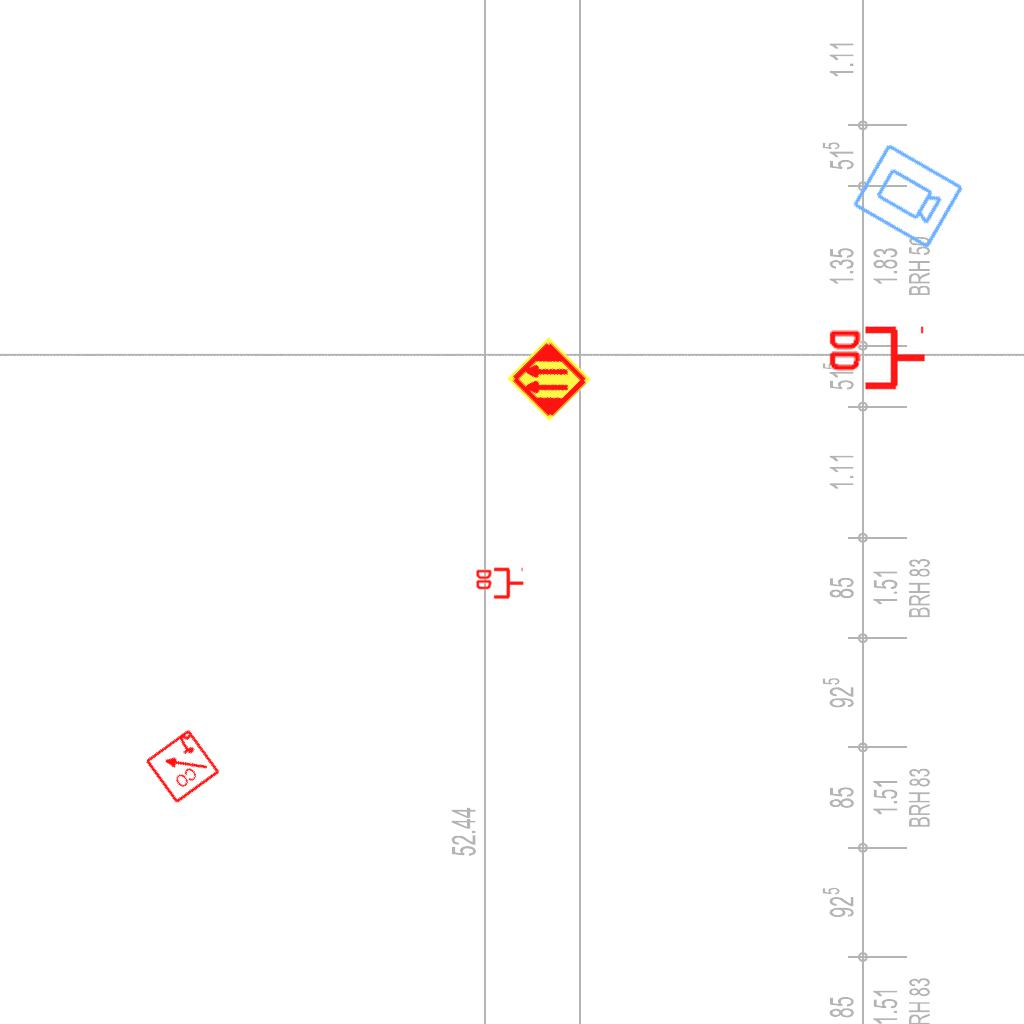ASR_Ansaugrauchmelder: (505, 335, 593, 423)
Datenanschluss_zweifach: (825, 325, 928, 394), (474, 567, 525, 601)
KFO_Kamera_mit_Festobjektiv: (848, 140, 967, 253)
ROA_Rauchmelder_optisch_mit_Signalgeber_(Sockelsirene): (142, 726, 222, 806)
